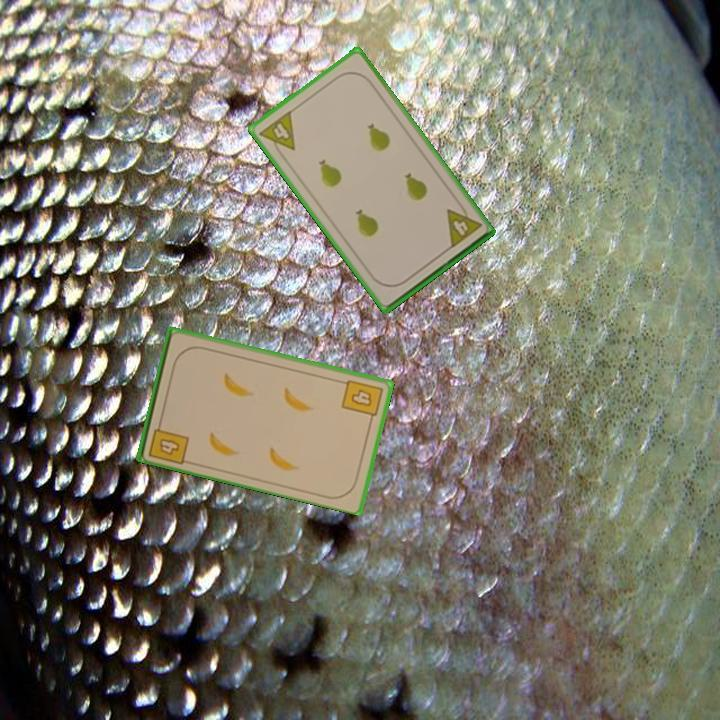4b: (145, 416, 192, 467), (338, 376, 386, 425)
4p: (256, 107, 298, 161), (443, 199, 484, 251)
